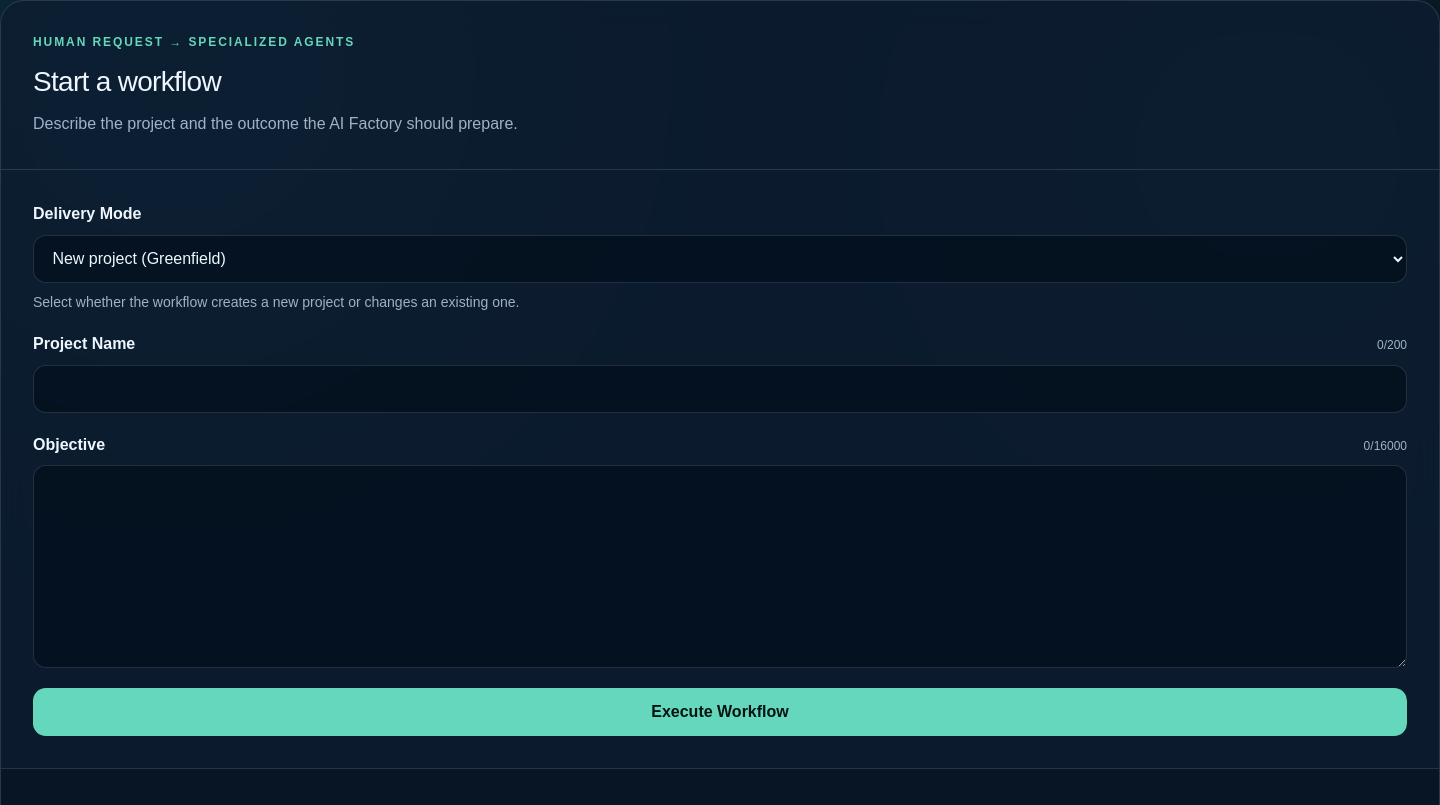
Test: ExecutionExperience asynchronous flow › does not expose messages from unexpected errors
Select "New project (Greenfield)" in the dropdown labelled "Delivery Mode" at {"x": 720, "y": 259}, box [33, 235, 1407, 283]
Type "Customer Portal" into the field labelled "Project Name" at {"x": 720, "y": 389}, box [33, 365, 1407, 413]
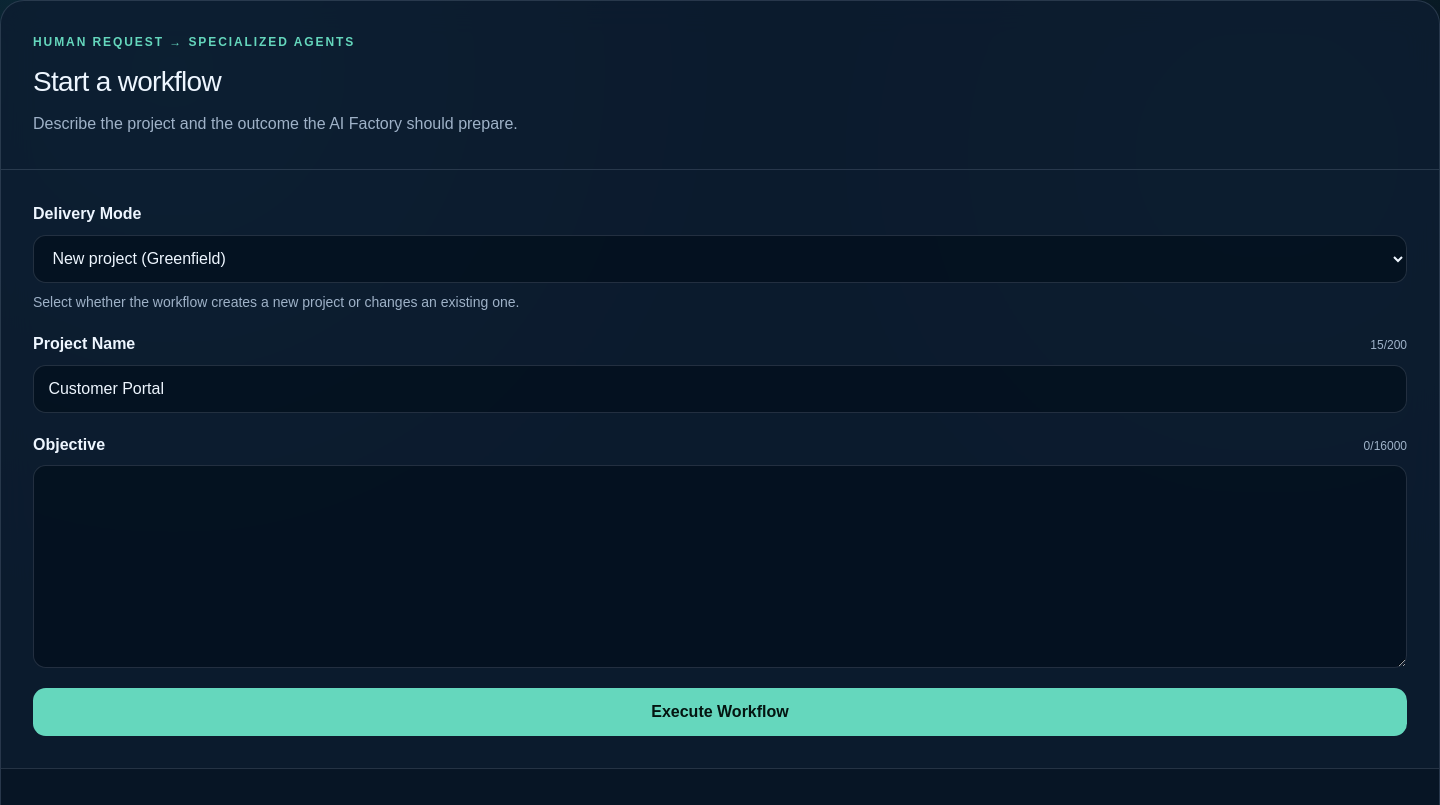
Type "Let customers track their orders." into the text box labelled "Objective" at {"x": 720, "y": 567}, box [33, 466, 1407, 668]
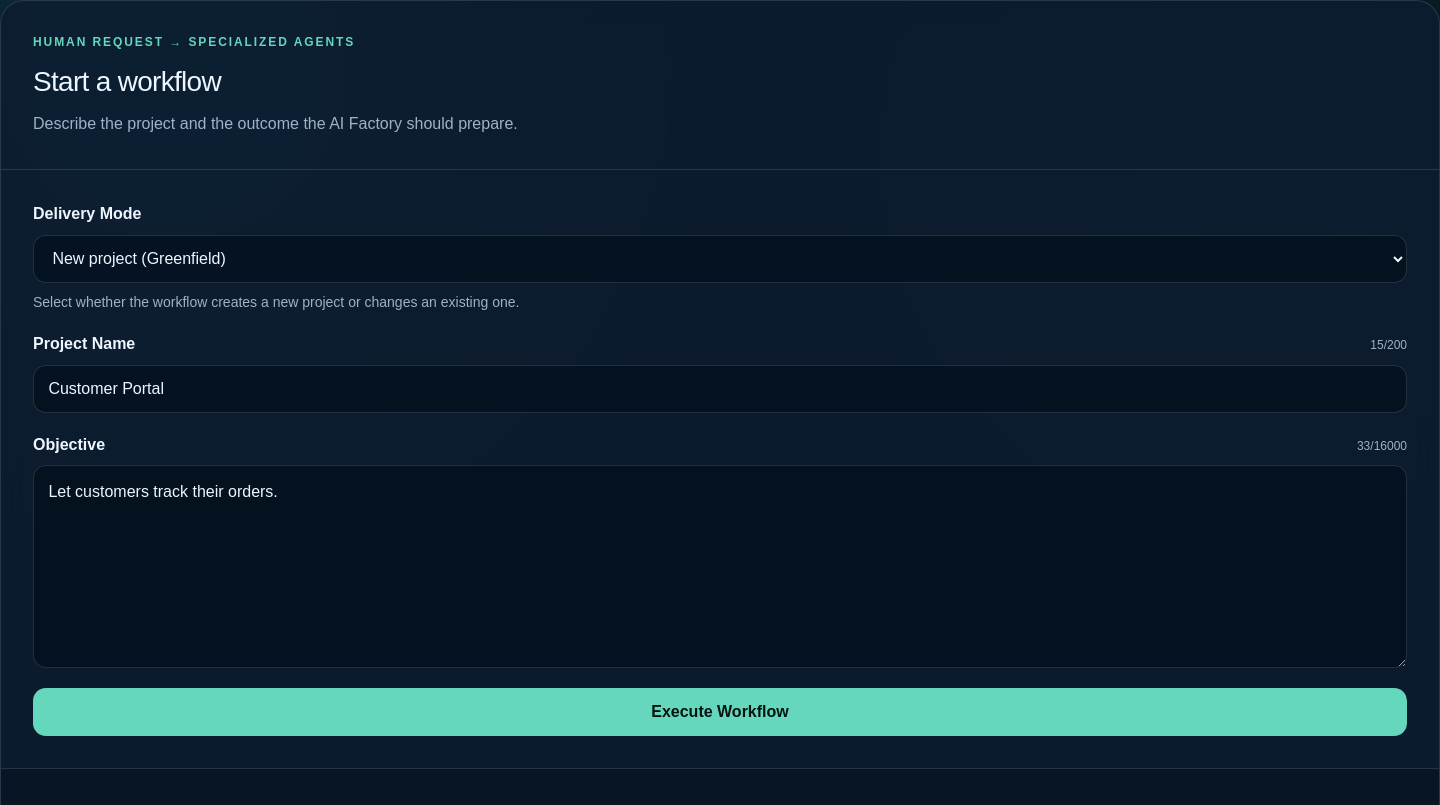
Click the button "Execute Workflow" at {"x": 720, "y": 712}, box [33, 688, 1407, 736]
(page scrolled)
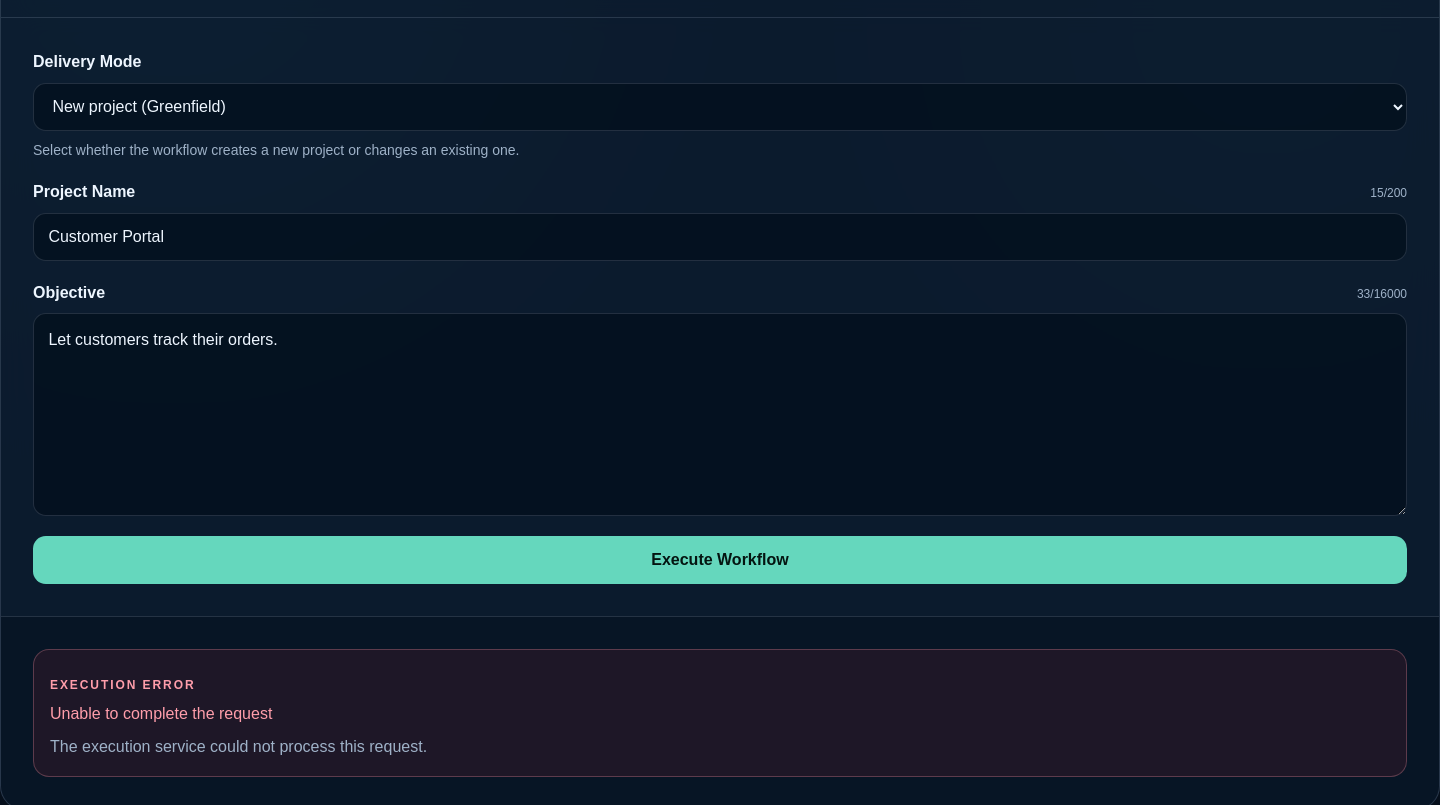
Check: the message does not show "internal secret", box [33, 649, 1407, 777]
Check: the message shows "The execution service could not process this request.", box [50, 738, 427, 755]
